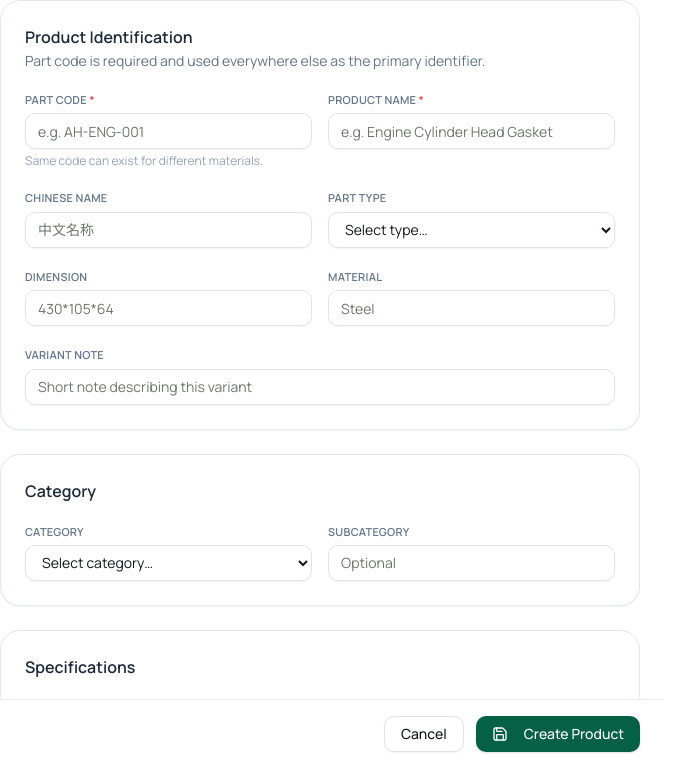
ProductForm — validation › rejects MOQ below 1
Type "X2" into the field labelled "Part Code *" at (168, 131), box 25,113 -> 312,149
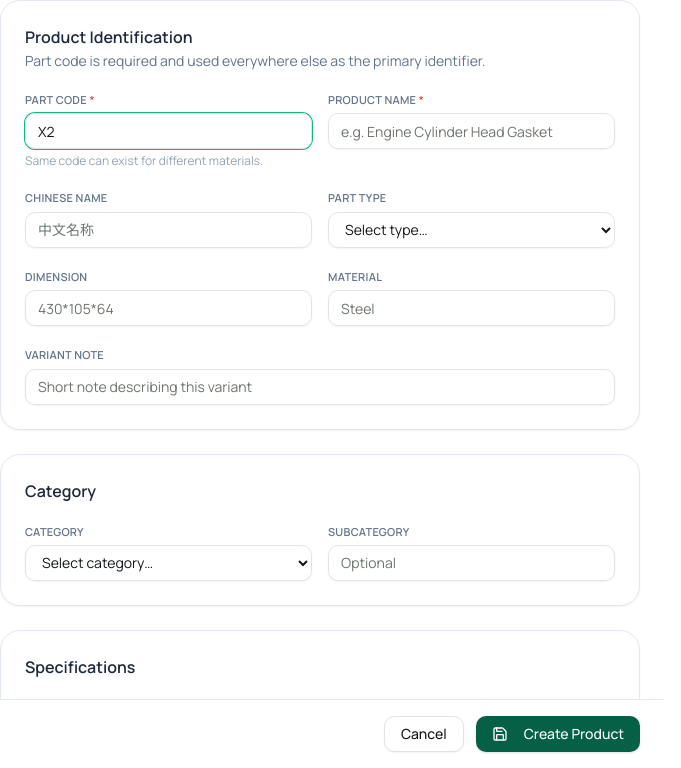
Type "Widget" into the field labelled "Product Name *" at (472, 131), box 328,113 -> 615,149
(page scrolled)
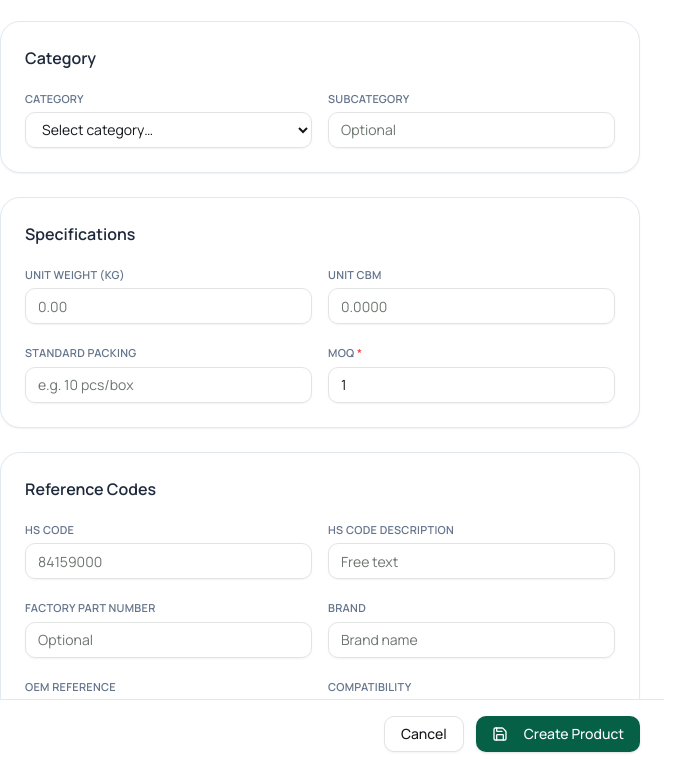
Type "0" into the number field labelled "MOQ *" at (472, 385), box 328,367 -> 615,403
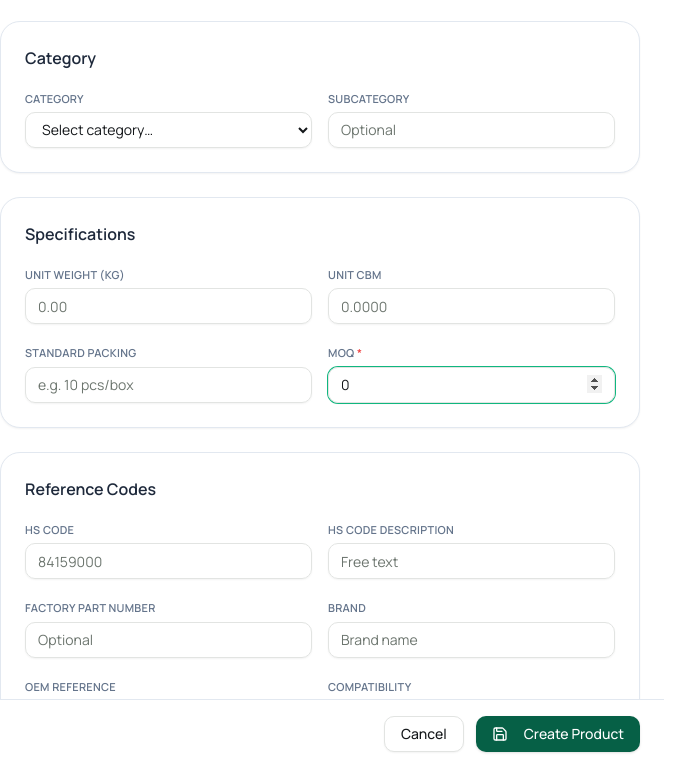
Click the button "Create Product" at (558, 734), box 476,716 -> 640,752
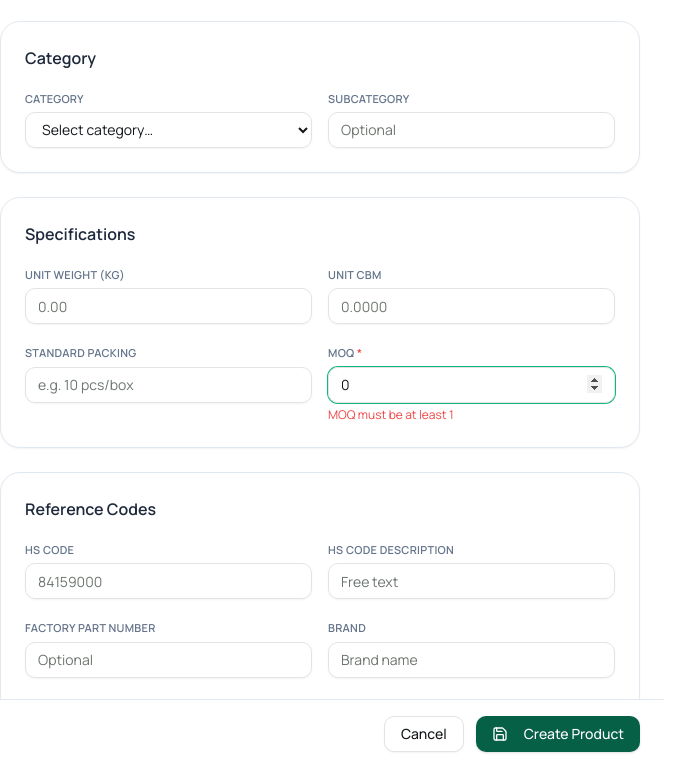
Now the text "MOQ must be at least 1" is shown, box 328,406 -> 454,423
